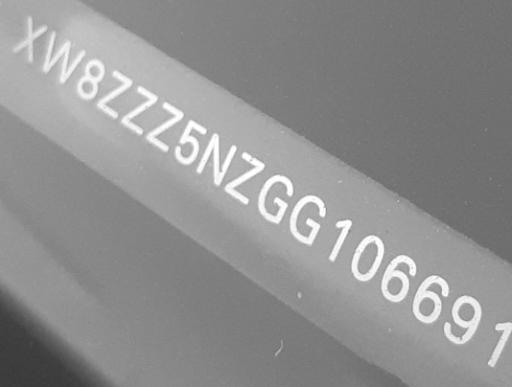letter: (40, 28, 86, 81), (120, 82, 158, 135), (198, 133, 238, 183), (144, 100, 184, 149), (290, 194, 330, 243), (444, 294, 484, 343), (226, 150, 264, 201), (412, 272, 450, 323), (258, 172, 294, 223), (96, 67, 132, 118), (380, 253, 418, 299), (350, 234, 386, 281), (174, 115, 208, 164), (14, 15, 48, 62), (482, 319, 510, 367), (326, 216, 354, 262), (77, 56, 107, 98)
